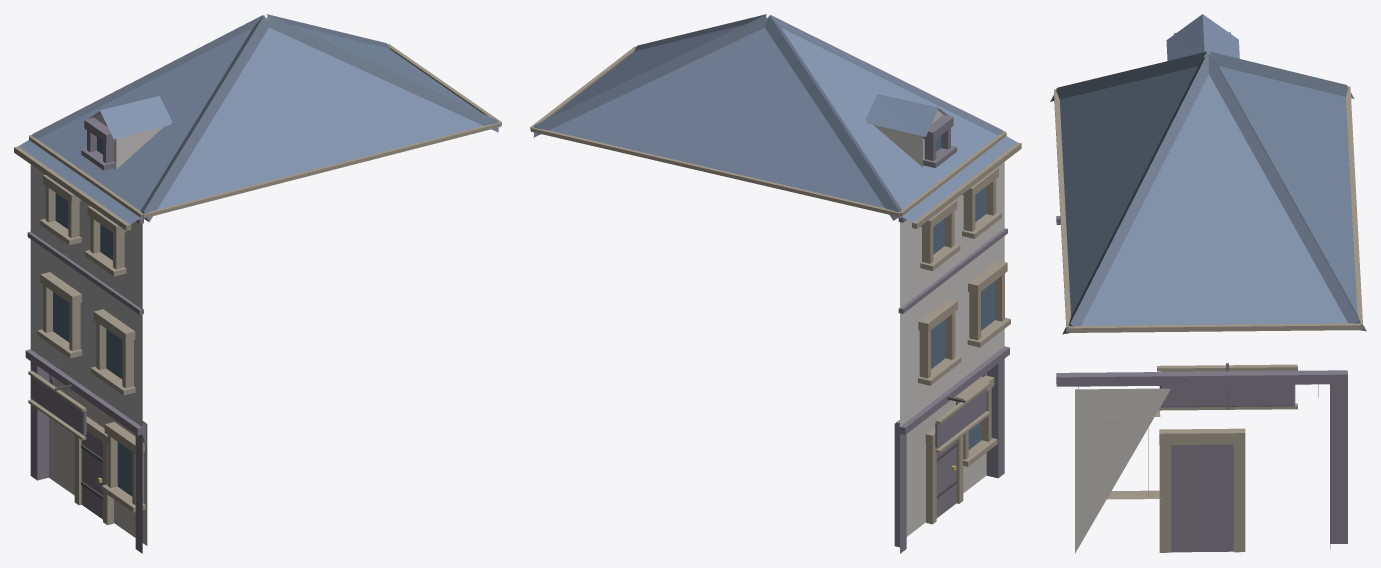
3 renders of one model, left to right at view 1: azimuth 30°, elevation 25°; view 2: azimuth 150°, elevation 25°; view 3: azimuth 270°, elevation 25°, orthographic. The views are drawn at different scales.
Parts seen in each view (by area): view 1: B046_visible; view 2: B046_visible; view 3: B046_visible.
Boxes of the visible parts, x1,y1,x2,y2 form: B046_visible: (14,14,501,553); B046_visible: (530,14,1021,553); B046_visible: (1050,14,1366,553).
Size of the model in its own units: 11.59 by 12.95 by 6.08.
